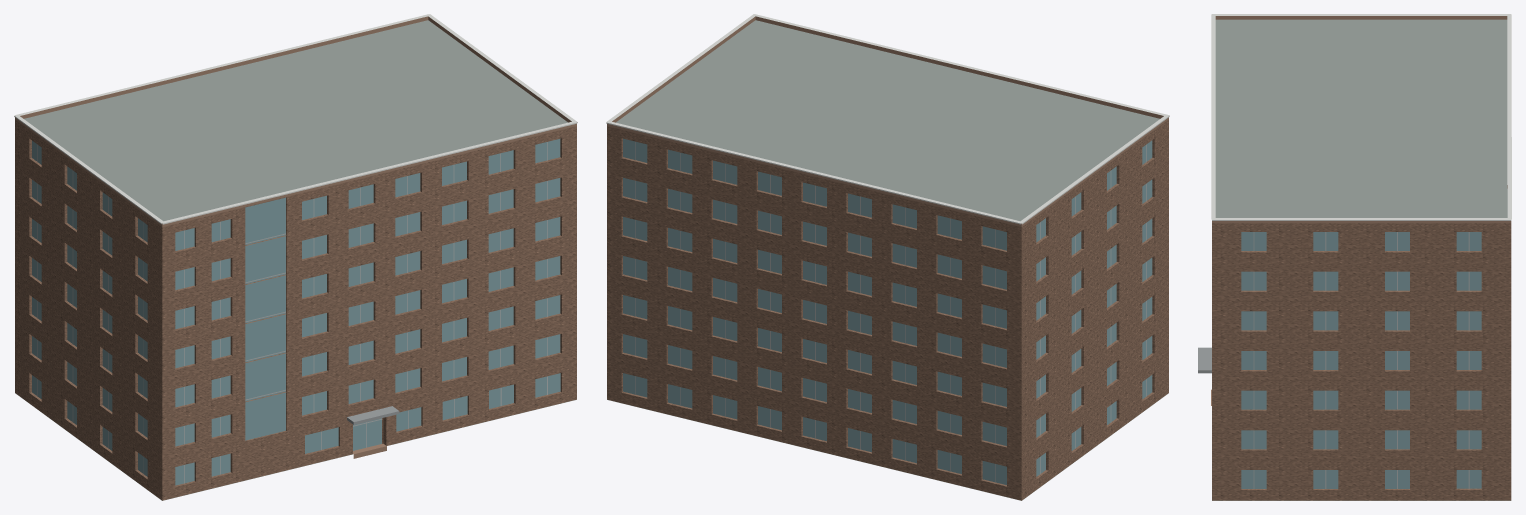
The picture shows the model from 3 angles, left to right: view 1: azimuth 30°, elevation 25°; view 2: azimuth 150°, elevation 25°; view 3: azimuth 270°, elevation 25°; orthographic projection.
Parts seen in each view (by area): view 1: osm761589266__wall, osm761589266__roof, osm761589266__glass, osm761589266__trim, osm761589266__parapet, osm761589266__frame; view 2: osm761589266__wall, osm761589266__roof, osm761589266__glass, osm761589266__trim, osm761589266__parapet, osm761589266__frame; view 3: osm761589266__wall, osm761589266__roof, osm761589266__glass, osm761589266__trim, osm761589266__parapet, osm761589266__frame, osm761589266__canopy.
Part boxes in pixels (left/top/right/bottom): osm761589266__wall: left=15, top=119, right=576, bottom=500; osm761589266__roof: left=15, top=20, right=576, bottom=500; osm761589266__glass: left=32, top=139, right=560, bottom=485; osm761589266__trim: left=14, top=14, right=577, bottom=224; osm761589266__parapet: left=15, top=16, right=576, bottom=226; osm761589266__frame: left=37, top=142, right=547, bottom=483; osm761589266__wall: left=607, top=119, right=1168, bottom=500; osm761589266__roof: left=607, top=20, right=1168, bottom=500; osm761589266__glass: left=623, top=138, right=1152, bottom=484; osm761589266__trim: left=606, top=14, right=1169, bottom=224; osm761589266__parapet: left=607, top=16, right=1168, bottom=226; osm761589266__frame: left=635, top=141, right=1146, bottom=482; osm761589266__wall: left=1212, top=223, right=1511, bottom=500; osm761589266__roof: left=1212, top=19, right=1510, bottom=500; osm761589266__glass: left=1241, top=232, right=1481, bottom=488; osm761589266__trim: left=1211, top=14, right=1511, bottom=220; osm761589266__parapet: left=1212, top=16, right=1511, bottom=223; osm761589266__frame: left=1253, top=232, right=1469, bottom=488; osm761589266__canopy: left=1198, top=347, right=1211, bottom=373.
Bounding box in the file's own units: 40.11 × 25.95 × 25.84.
Materials: 9 (1 with a texture image).
